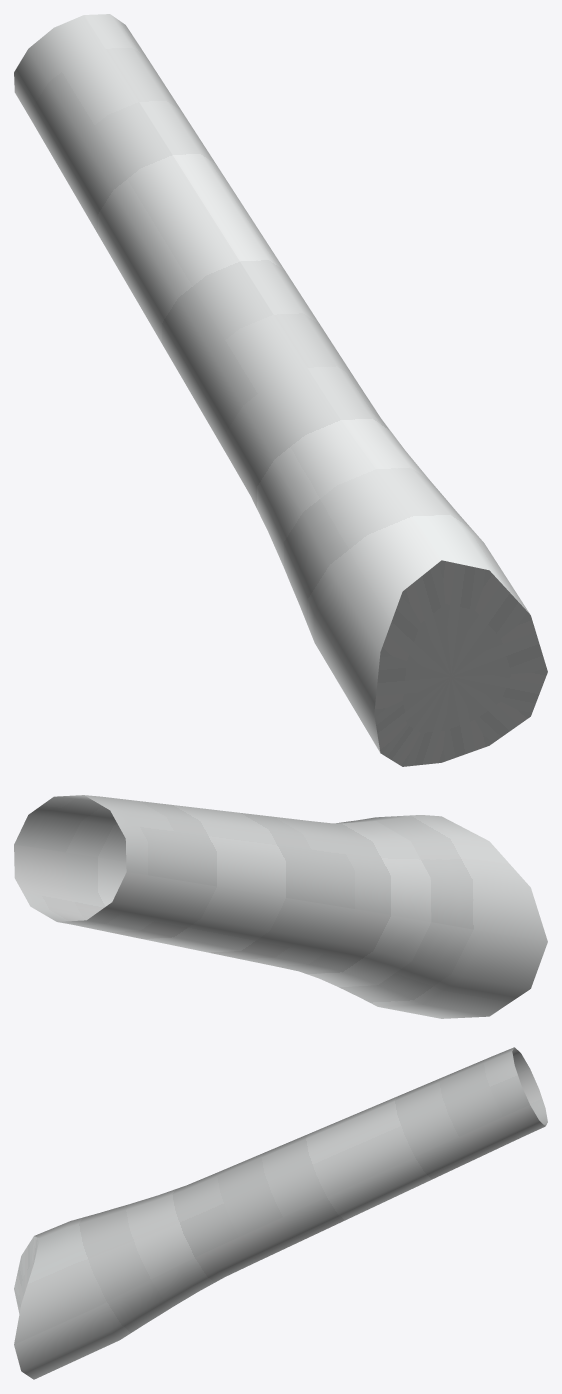
File: luminairearm_caltrans6ftstraightdouble_c0_thin.obj
The picture shows the model from 3 angles, top to bottom: view 1: azimuth 30°, elevation 25°; view 2: azimuth 150°, elevation 25°; view 3: azimuth 270°, elevation 25°; orthographic projection. The views are drawn at different scales.
Visible parts, largest first — view 1: luminairearm_caltrans6ftstraightdouble_c0_thin; view 2: luminairearm_caltrans6ftstraightdouble_c0_thin; view 3: luminairearm_caltrans6ftstraightdouble_c0_thin.
Boxes of the visible parts, x1,y1,x2,y2 form: luminairearm_caltrans6ftstraightdouble_c0_thin: [14, 14, 547, 766]; luminairearm_caltrans6ftstraightdouble_c0_thin: [14, 795, 547, 1018]; luminairearm_caltrans6ftstraightdouble_c0_thin: [14, 1047, 547, 1379].
Bounding box in the file's own units: 0.3375 × 0.9021 × 1.36.
